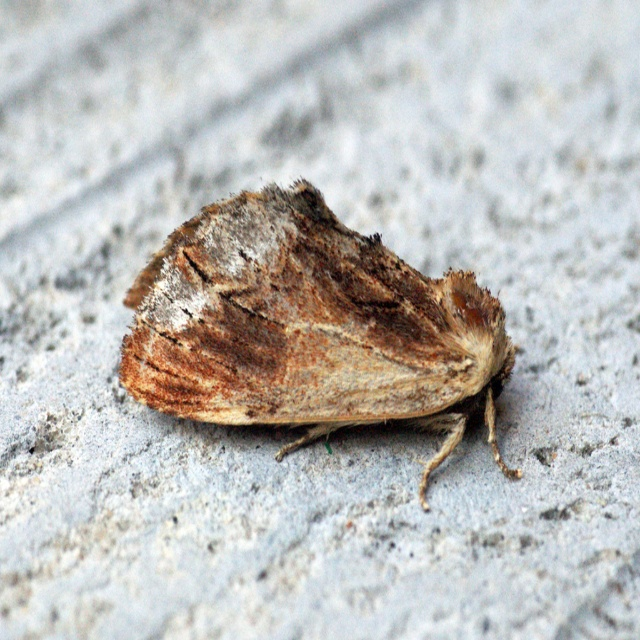Moths and butterflies: (113, 166, 530, 512)
